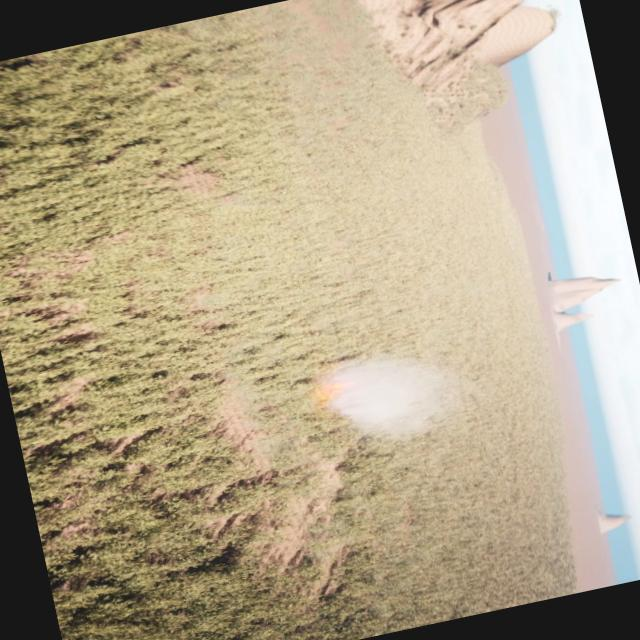fire: (322, 376, 362, 400)
smoke: (320, 342, 474, 452)
